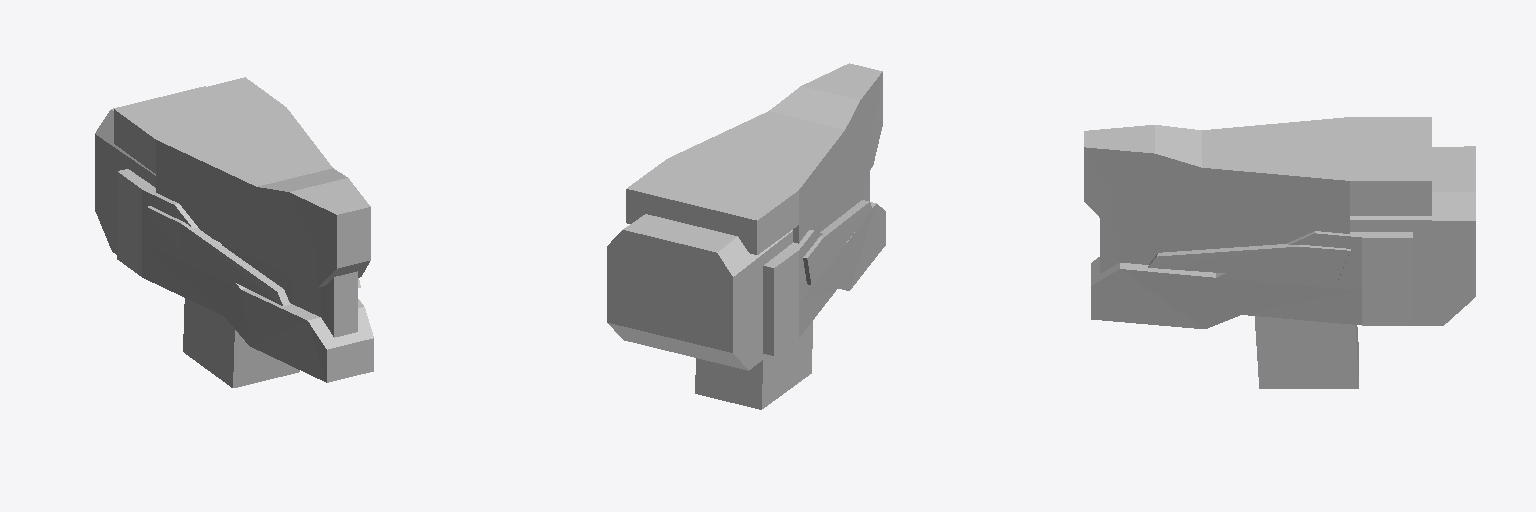
The model's file is Head.obj.
3 views of the same model, side by side, from view 1: azimuth 30°, elevation 25°; view 2: azimuth 150°, elevation 25°; view 3: azimuth 270°, elevation 25° (orthographic).
Visible parts, largest first — view 1: Cube.004_Cube.006; view 2: Cube.004_Cube.006; view 3: Cube.004_Cube.006.
Boxes of the visible parts, box(x1,y1,x2,y2) form: Cube.004_Cube.006: box(95, 77, 373, 387); Cube.004_Cube.006: box(607, 63, 885, 409); Cube.004_Cube.006: box(1084, 117, 1475, 388).
Bounding box in the file's own units: 63.89 × 95.91 × 146.